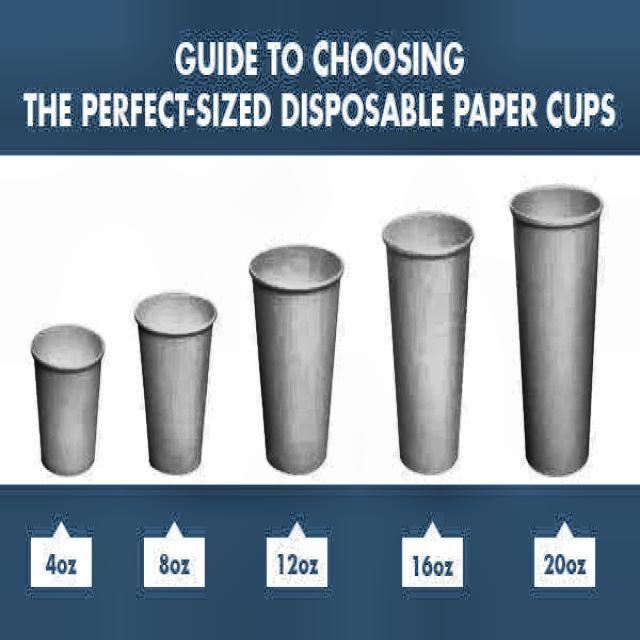Cup: (506, 168, 602, 484), (381, 203, 476, 476), (243, 238, 344, 477), (130, 281, 219, 475), (30, 322, 106, 476)
